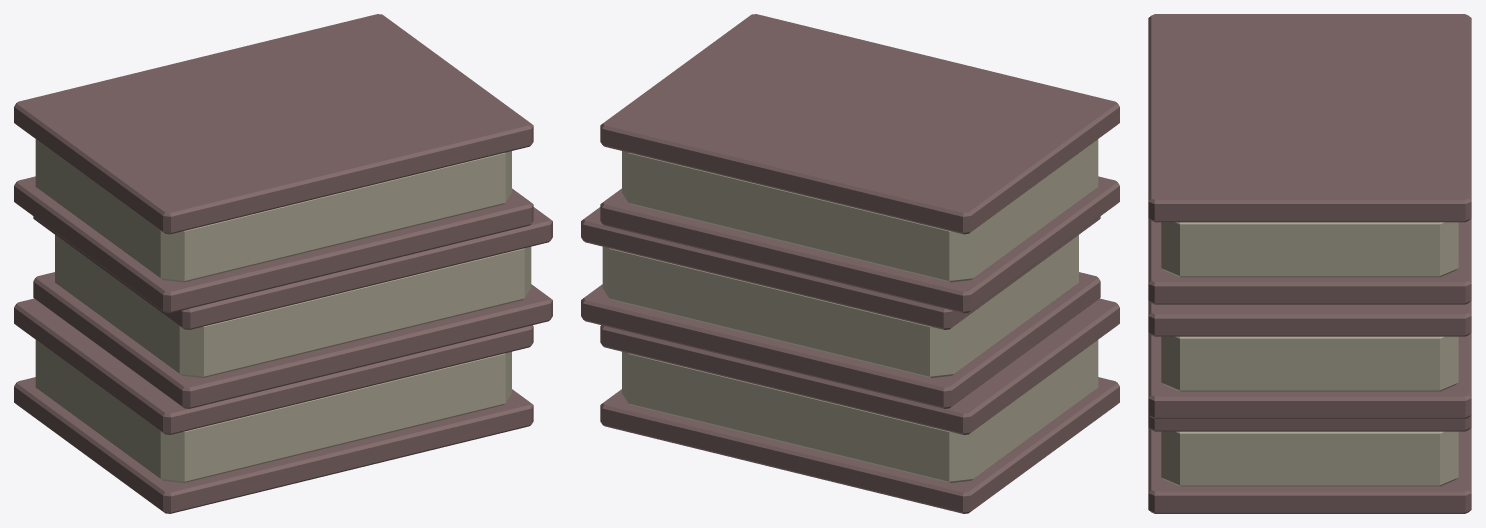
File: prayer-books.glb
The picture shows the model from 3 angles, left to right: view 1: azimuth 30°, elevation 25°; view 2: azimuth 150°, elevation 25°; view 3: azimuth 270°, elevation 25°; orthographic projection. The views are drawn at different scales.
Visible parts, largest first — view 1: prayer-books__body; view 2: prayer-books__body; view 3: prayer-books__body.
Boxes of the visible parts, x1,y1,x2,y2 form: prayer-books__body: [14, 14, 552, 513]; prayer-books__body: [581, 14, 1119, 513]; prayer-books__body: [1148, 14, 1471, 513].
Size of the model in its own units: 0.2227 by 0.1643 by 0.1533.
